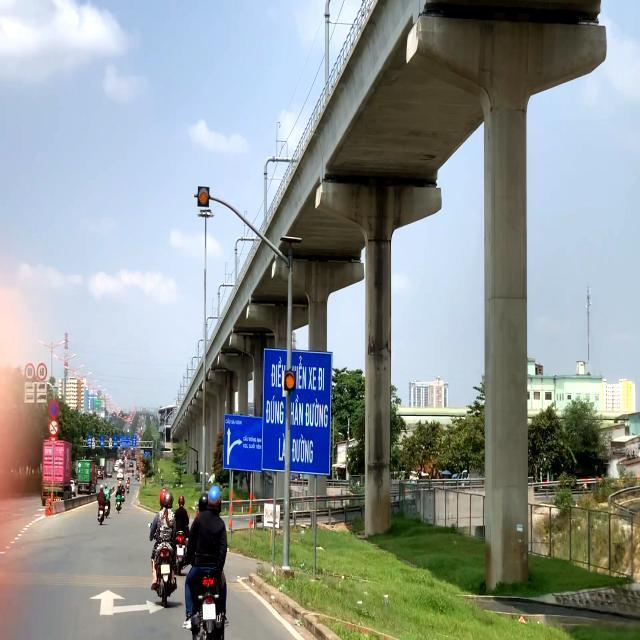127-toc-do-toi-da-60: (37, 362, 48, 380)
127-toc-do-toi-da-80: (24, 362, 37, 380)
